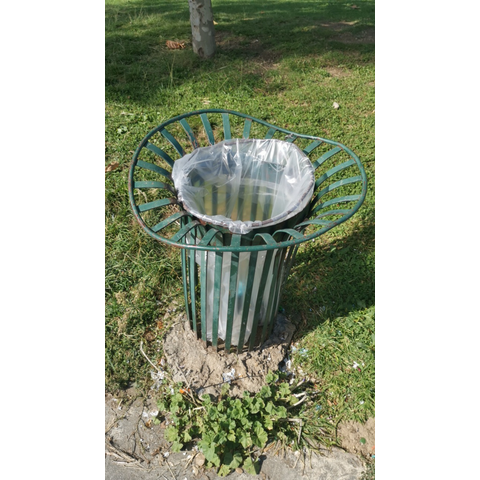poubelle: (128, 101, 369, 356)
